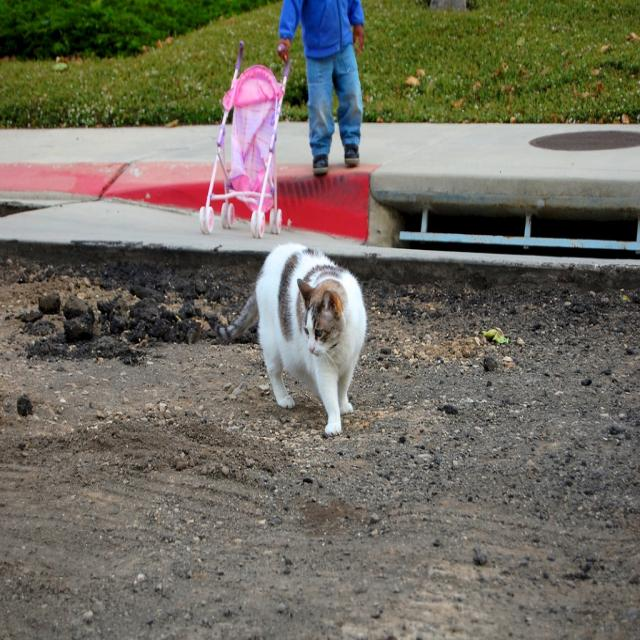Cat: (214, 240, 367, 437)
